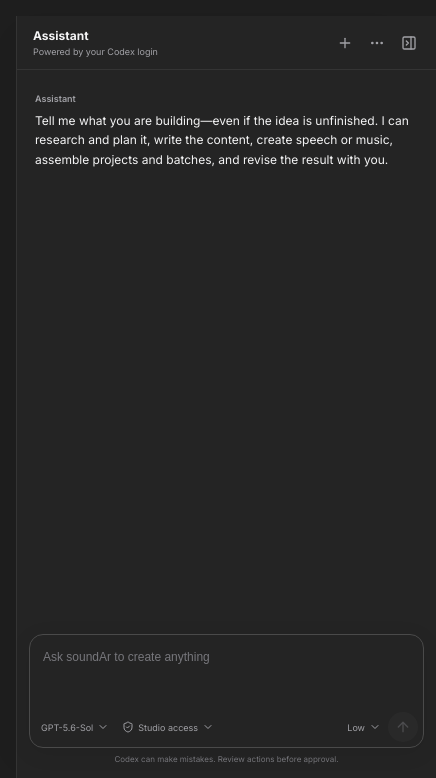
AssistantPane › restores the current playable video and compact phases when a saved task resumes
Expected: the text box named "Message soundAr assistant" is shown, x1=30 y1=635 x2=423 y2=709
Click the button named "Conversation history".
click(377, 42)  # box x1=362 y1=28 x2=392 y2=58
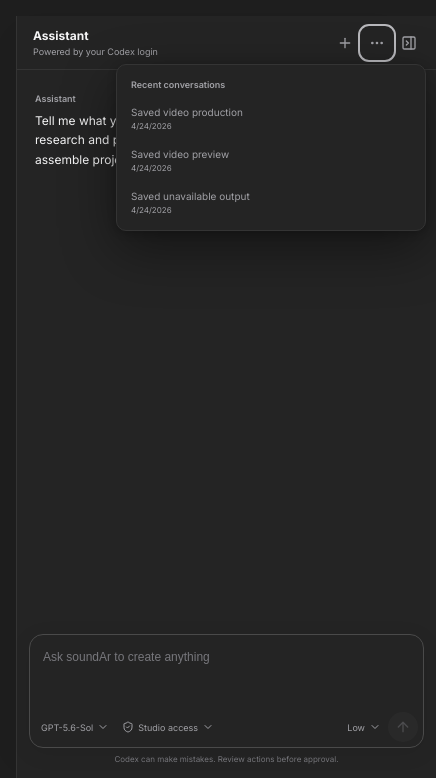
Click the menu item "Saved video production 4/24/2026".
click(187, 112)  # box x1=123 y1=98 x2=419 y2=140
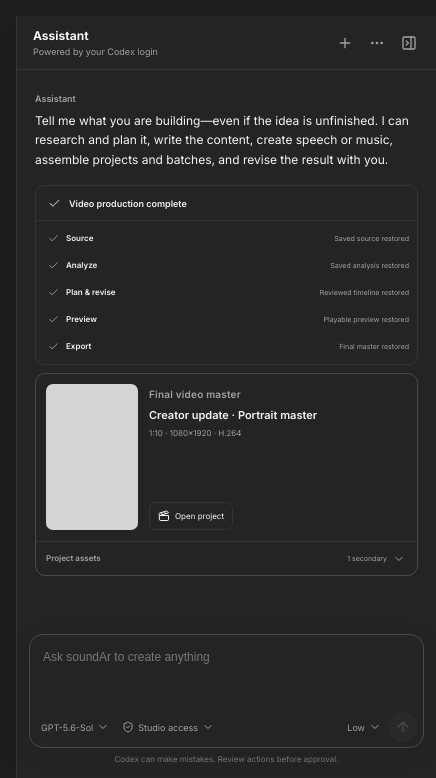
Expected: the text "Video production complete" is shown, x1=69 y1=198 x2=187 y2=209
Expected: the text "Export" is shown, x1=66 y1=341 x2=91 y2=351
Expected: the menu item "Save " is gone
